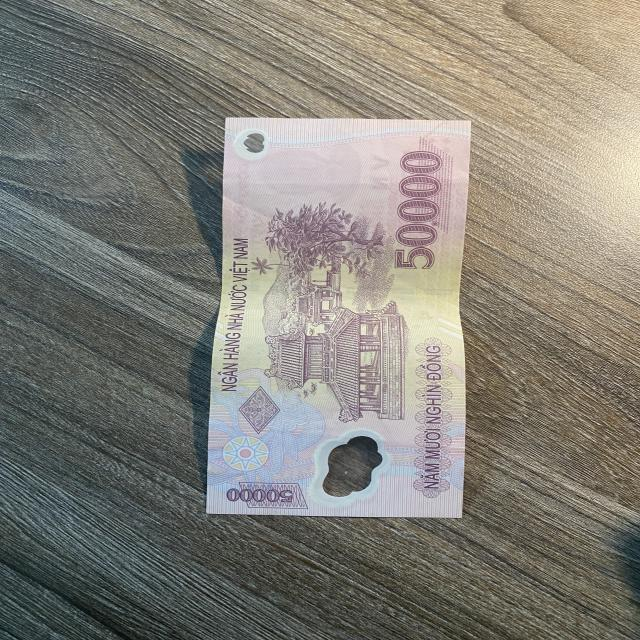50 000 VND: (203, 117, 473, 519)
